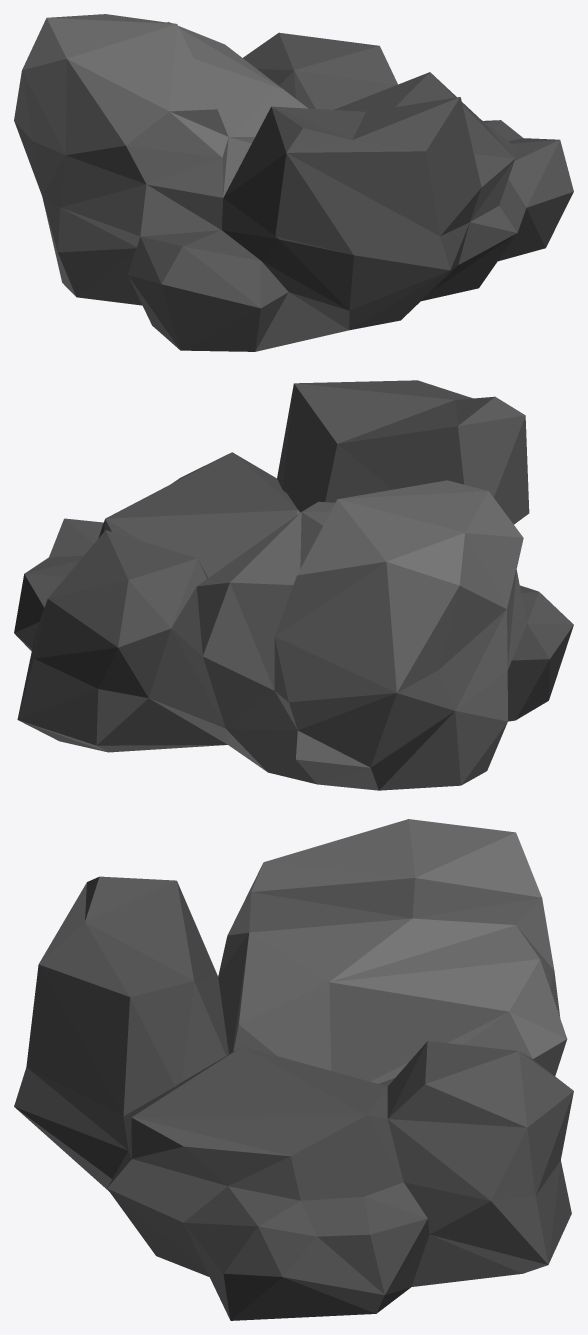
File: stoun_3.fbx
The picture shows the model from 3 angles, top to bottom: view 1: azimuth 30°, elevation 25°; view 2: azimuth 150°, elevation 25°; view 3: azimuth 270°, elevation 25°; orthographic projection. The views are drawn at different scales.
Parts seen in each view (by area): view 1: Object.003; view 2: Object.003; view 3: Object.003.
Part boxes in pixels (x1,y1,x2,y2): Object.003: (14,14,573,351); Object.003: (14,380,573,790); Object.003: (14,819,573,1320).
Bounding box in the file's own units: 329 × 163 × 298.
